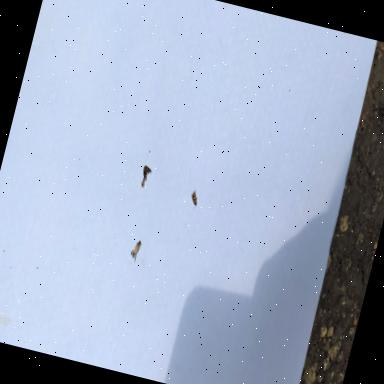pbw: (128, 238, 142, 261), (188, 184, 201, 208)
